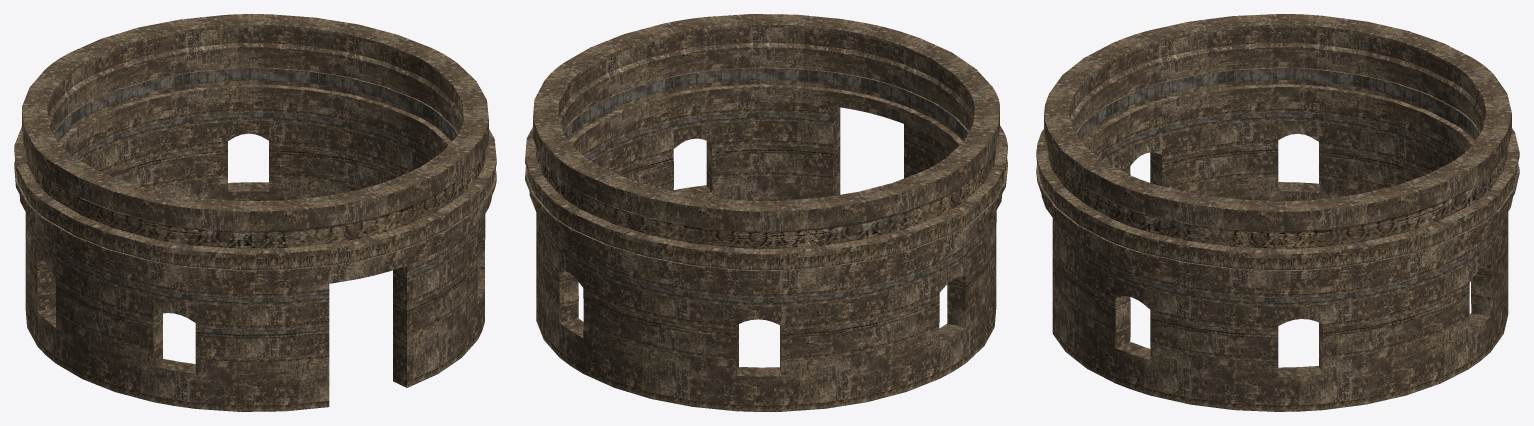
File: materials_5_wall_cylinder_9.fbx
3 views of the same model, side by side, from view 1: azimuth 30°, elevation 25°; view 2: azimuth 150°, elevation 25°; view 3: azimuth 270°, elevation 25° (orthographic).
Visible parts, largest first — view 1: materials_5_wall_cylinder_9; view 2: materials_5_wall_cylinder_9; view 3: materials_5_wall_cylinder_9.
Part boxes in pixels (<box>): materials_5_wall_cylinder_9: <box>14,14,496,411</box>; materials_5_wall_cylinder_9: <box>525,14,1007,411</box>; materials_5_wall_cylinder_9: <box>1036,14,1519,411</box>.
Bounding box in the file's own units: 821 × 378 × 821.
